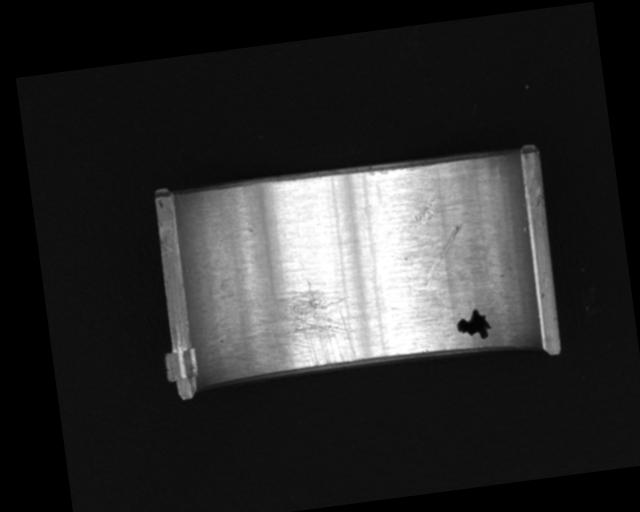blot: (454, 305, 494, 342)
bruise: (411, 197, 439, 225)
nick: (417, 224, 468, 286)
scratch: (221, 274, 359, 379)
